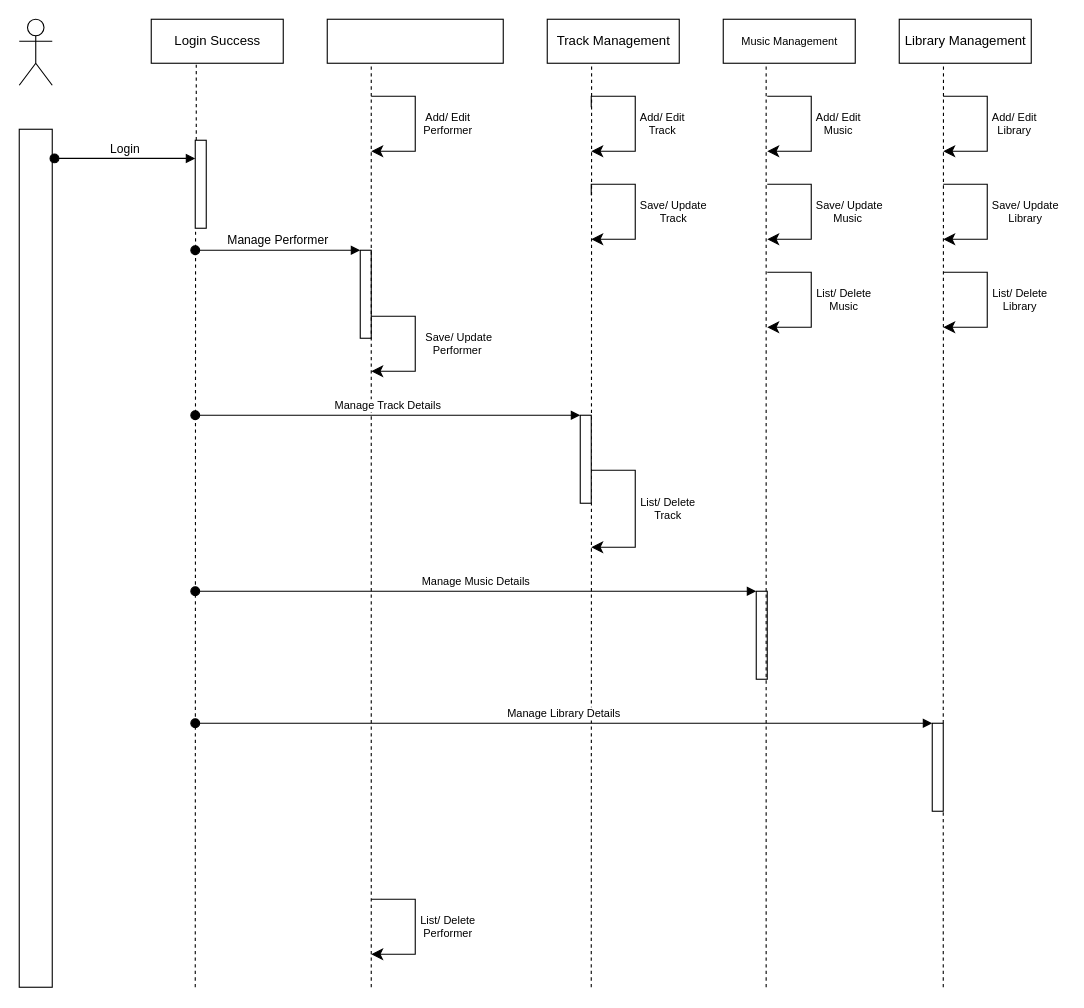
Some shapes in this 1084 by 1008 pixel diagram are drawn without their labels. The centre of each missing label's shape, as x and y in pixels:
"Performer Management" goes at pixel 414 40.
"User" goes at pixel 35 51.
